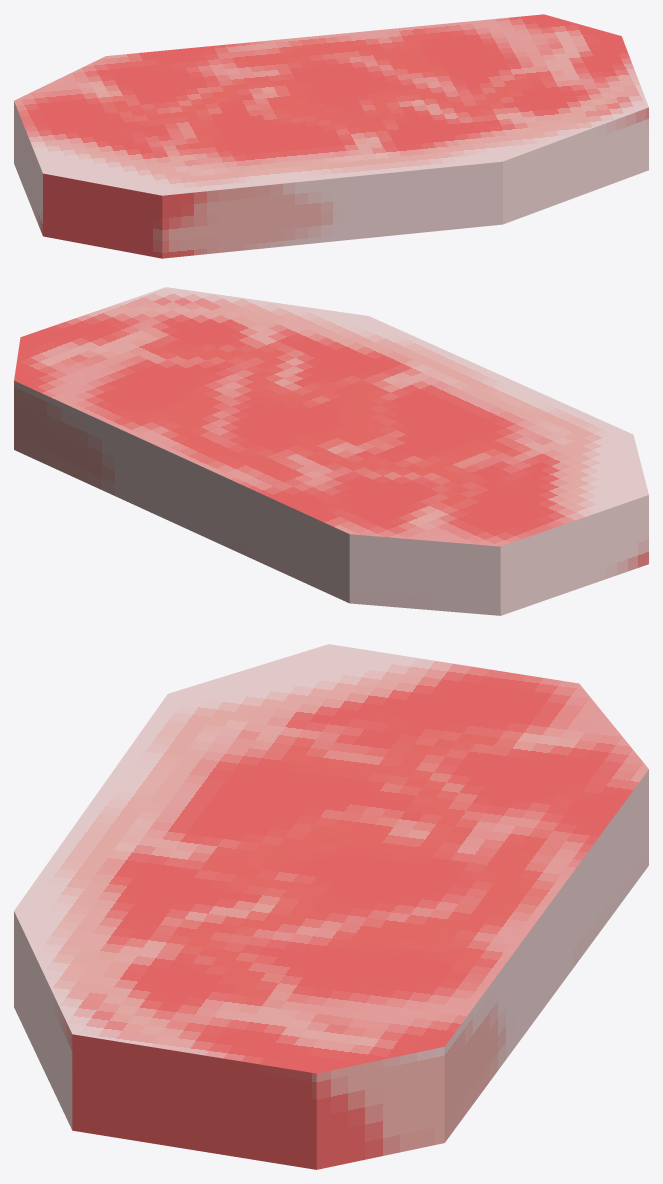
The model's file is niku.gltf.
3 views of the same model, one above another, from view 1: azimuth 30°, elevation 25°; view 2: azimuth 150°, elevation 25°; view 3: azimuth 270°, elevation 25° (orthographic). The views are drawn at different scales.
Parts seen in each view (by area): view 1: Cube; view 2: Cube; view 3: Cube.
Part boxes in pixels (bbox=[...]): Cube: bbox=[14, 14, 648, 258]; Cube: bbox=[14, 287, 648, 615]; Cube: bbox=[14, 644, 648, 1169].
Size of the model in its own units: 0.3668 by 0.0384 by 0.2292.
Materials: 1 (1 with a texture image).
